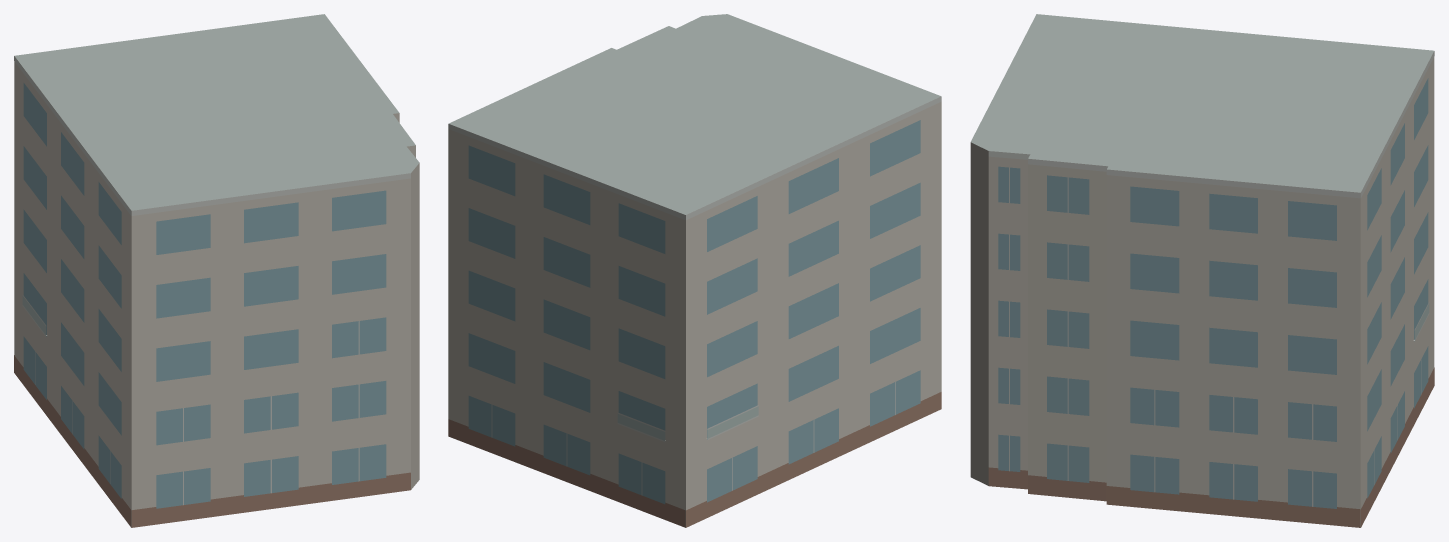
File: survey-upis-32861498.glb
3 views of the same model, side by side, from view 1: azimuth 30°, elevation 25°; view 2: azimuth 150°, elevation 25°; view 3: azimuth 270°, elevation 25° (orthographic). The views are drawn at different scales.
Parts seen in each view (by area): view 1: survey-upis-32861498.tmp; view 2: survey-upis-32861498.tmp; view 3: survey-upis-32861498.tmp.
Part boxes in pixels (box(x1,y1,x2,y2)): survey-upis-32861498.tmp: box(14, 14, 419, 527); survey-upis-32861498.tmp: box(448, 14, 941, 527); survey-upis-32861498.tmp: box(970, 14, 1434, 527).
Size of the model in its own units: 16.6 by 14.5 by 18.2.
